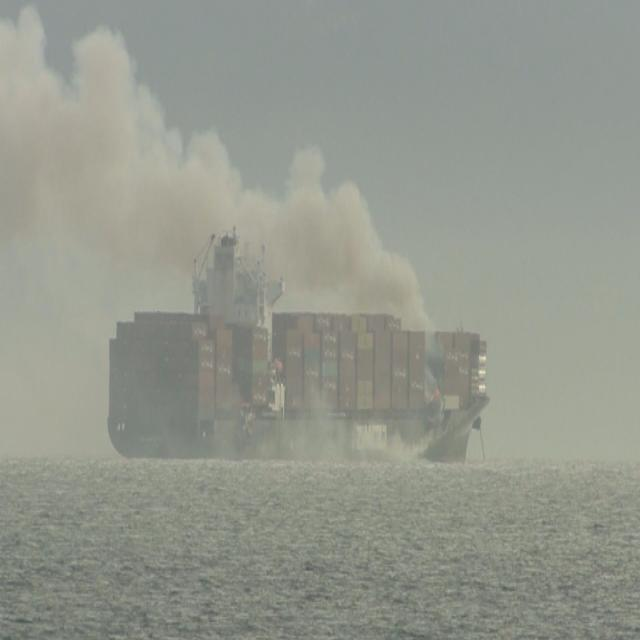cargoship: (108, 227, 487, 468)
